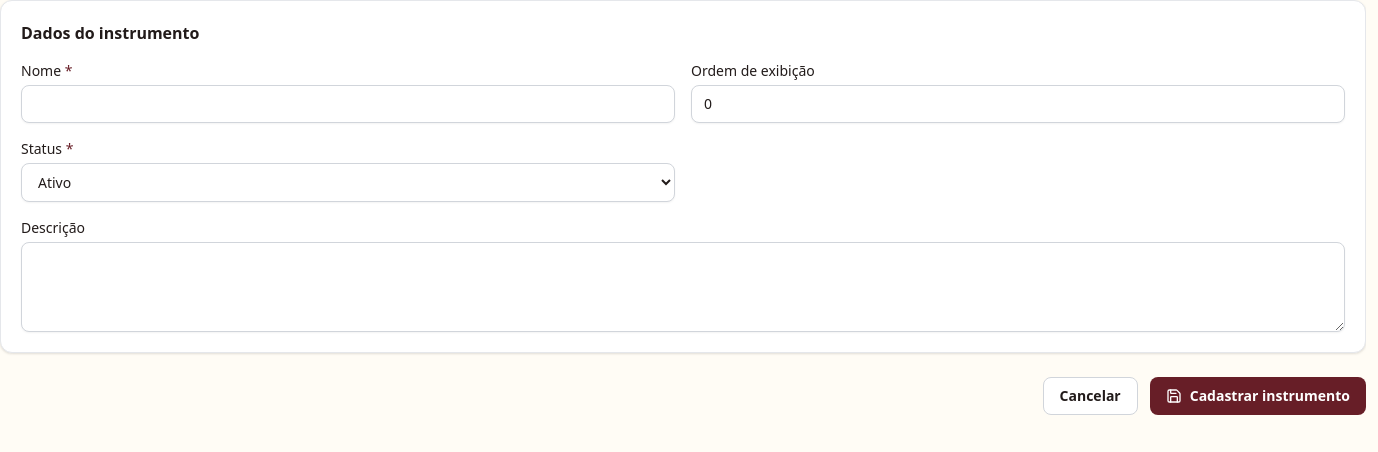
Test: InstrumentForm › exibe erro de validação quando o nome é muito curto
Type "A" into the field labelled "Nome *" at [348, 104], box [21,85,675,123]
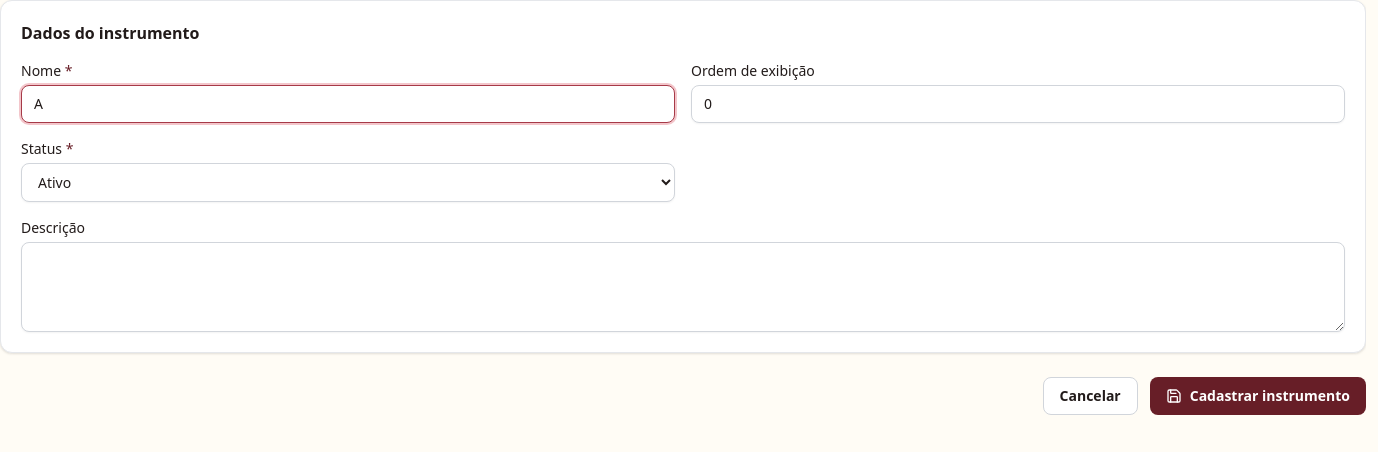
Click the button "Cadastrar instrumento" at [1258, 396], box [1150,377,1366,415]
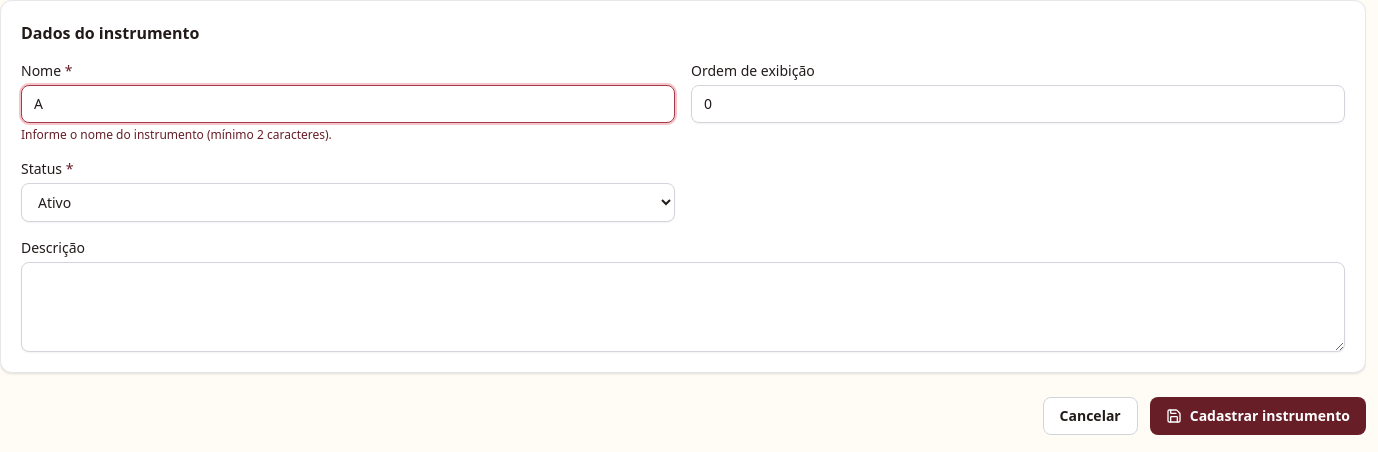
Expected: the text "Informe o nome do instrumento (mínimo 2 caracteres)." is shown, [21,126,332,143]
